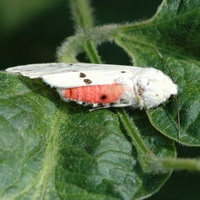insect: (6, 63, 176, 108)
